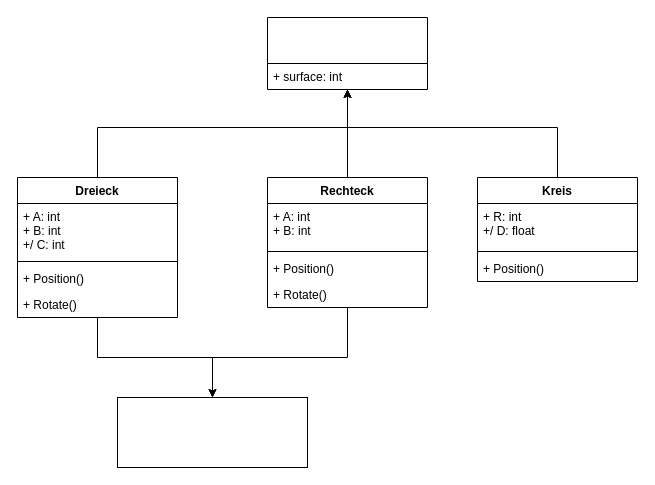
Image size: 655x485. Some labels were removed from this diagram. The shapes that lost their labels are listed below. From the top down, each one's box as (x1, y1, x2, y2) in pixels, then its label:
(266, 16, 428, 90): {abstract} Figure
(116, 396, 308, 468): <<Interface>> IRotation + Rotate()
